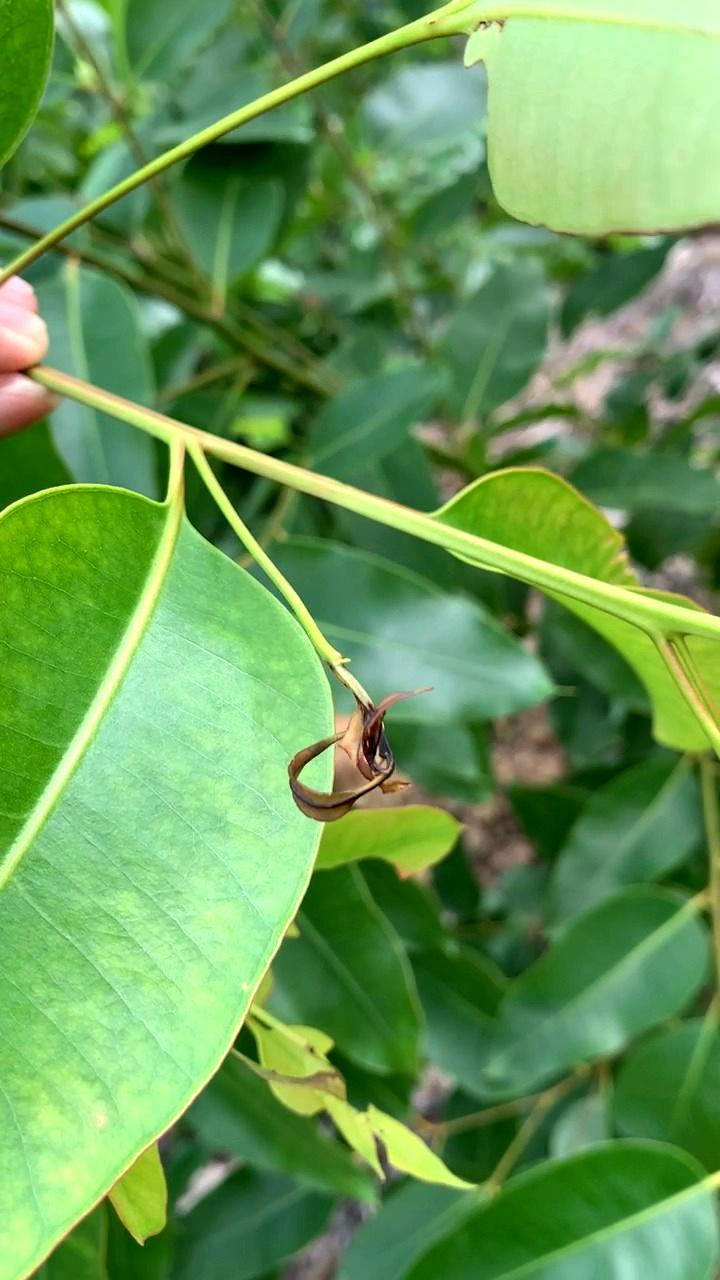Helopeltis-Withered Sprout: (290, 688, 433, 819)
